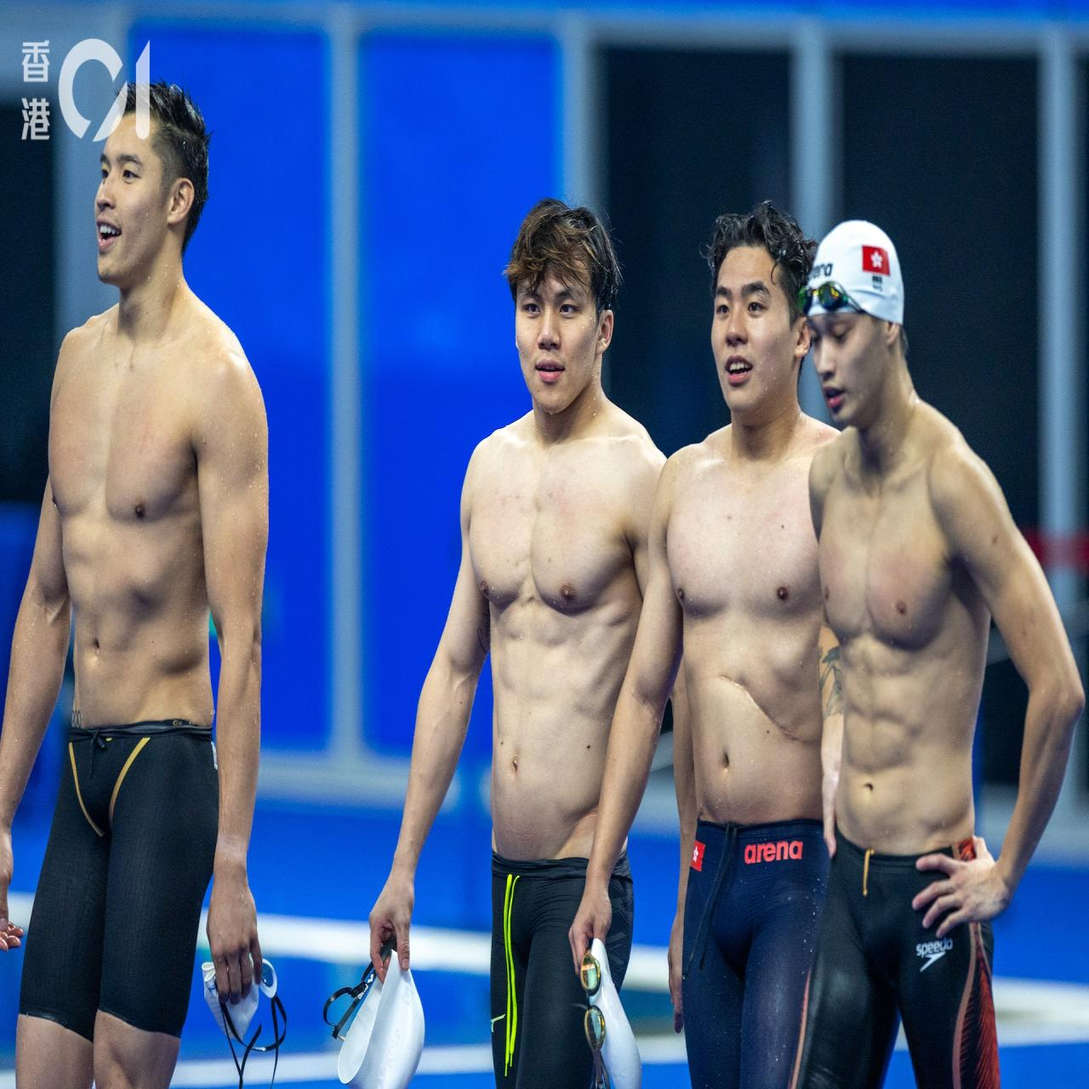NO_Safety_Vest: (29, 286, 277, 770), (439, 403, 671, 879), (808, 398, 1032, 882), (659, 417, 853, 852)
Person: (0, 60, 314, 1089), (360, 177, 678, 1089), (791, 196, 1089, 1089), (618, 192, 860, 1089)
